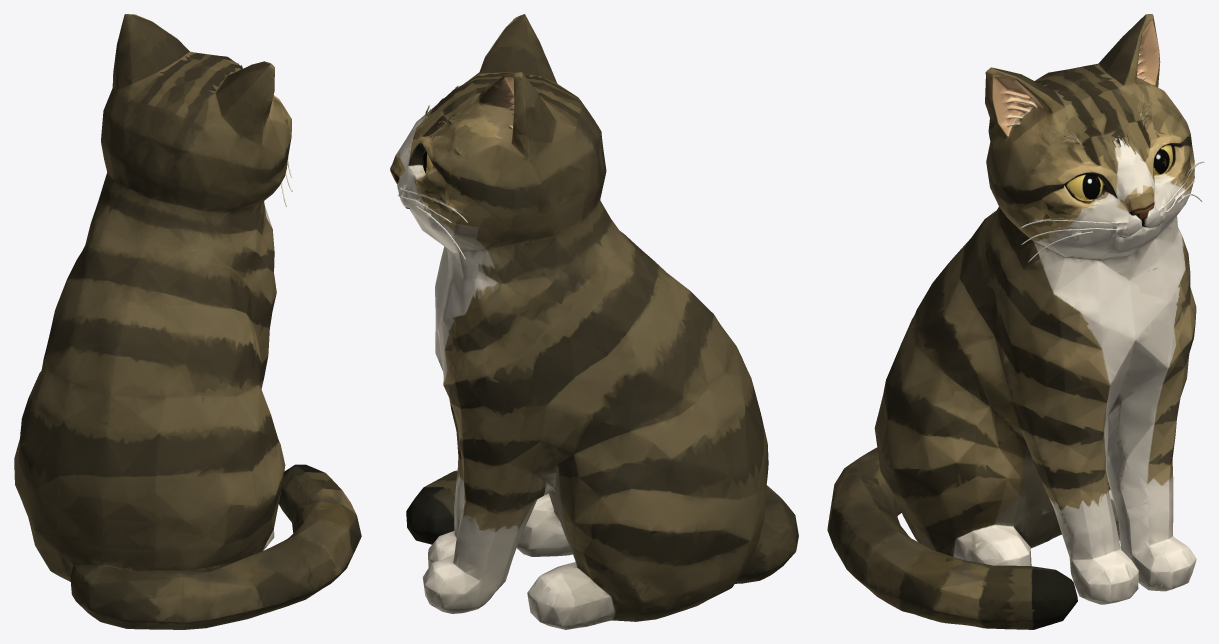
Rendered from suki.glb.
The picture shows the model from 3 angles, left to right: view 1: azimuth 30°, elevation 25°; view 2: azimuth 150°, elevation 25°; view 3: azimuth 270°, elevation 25°; orthographic projection. The views are drawn at different scales.
Parts seen in each view (by area): view 1: Meshy_AI_Golden_Whisker_Tabby_0819133949_texture; view 2: Meshy_AI_Golden_Whisker_Tabby_0819133949_texture; view 3: Meshy_AI_Golden_Whisker_Tabby_0819133949_texture.
Boxes of the visible parts, x1,y1,x2,y2 form: Meshy_AI_Golden_Whisker_Tabby_0819133949_texture: [14, 14, 361, 629]; Meshy_AI_Golden_Whisker_Tabby_0819133949_texture: [390, 14, 798, 629]; Meshy_AI_Golden_Whisker_Tabby_0819133949_texture: [827, 14, 1204, 629].
Bounding box in the file's own units: 0.2816 × 0.4391 × 0.2769.
Materials: 1 (1 with a texture image).
